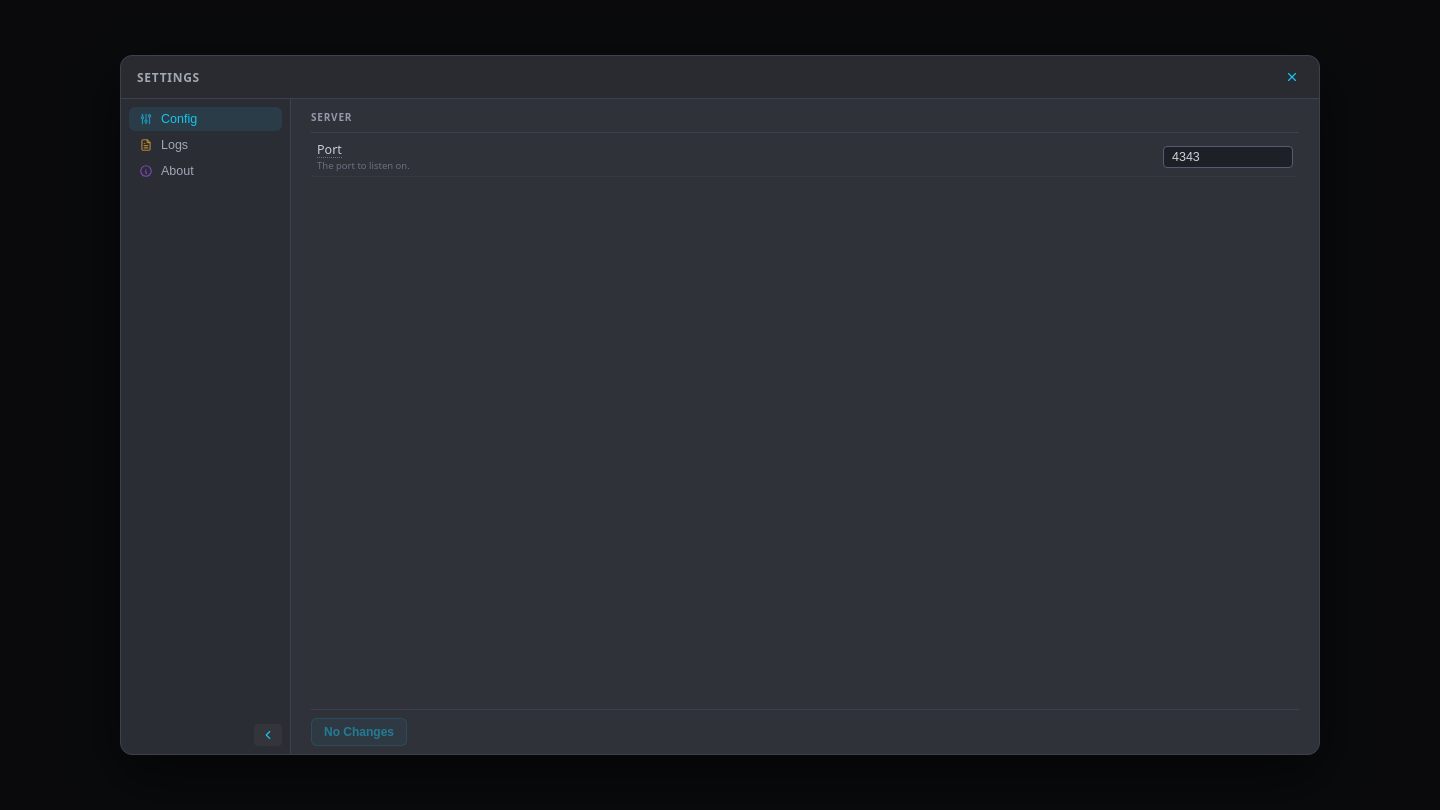
Test case: ConfigTab › keeps a pending Config edit after switching tabs and back
Expected: the text "Port" is shown, [317,142,342,158]
Step 1. Replace the text in the number field with "9000" → [1228, 157], box [1163,146,1293,168]
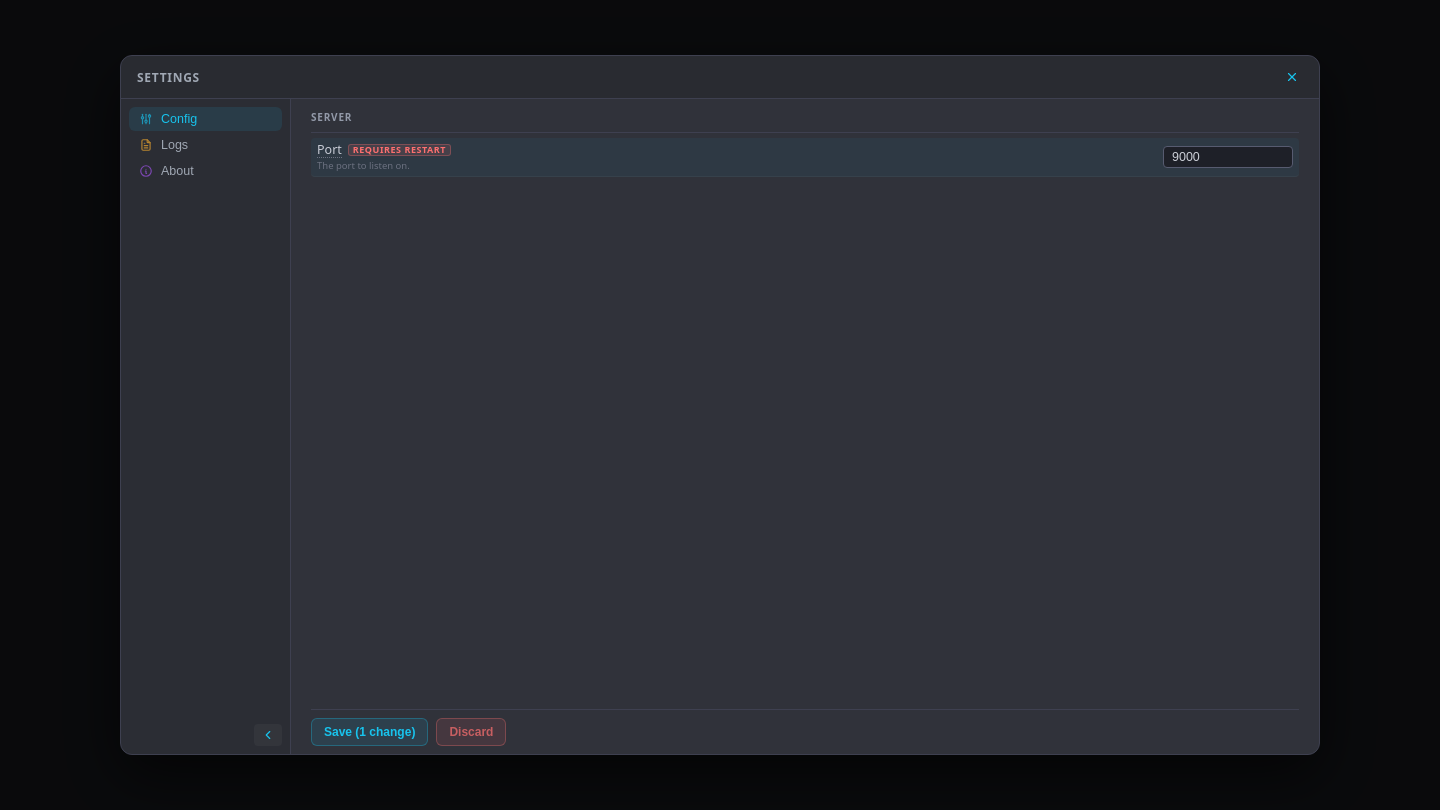
Result: the button "Save (1 change)" is enabled at [311,718,428,746]
Step 2. Click the button "About" → [206, 171], box [129,159,282,183]
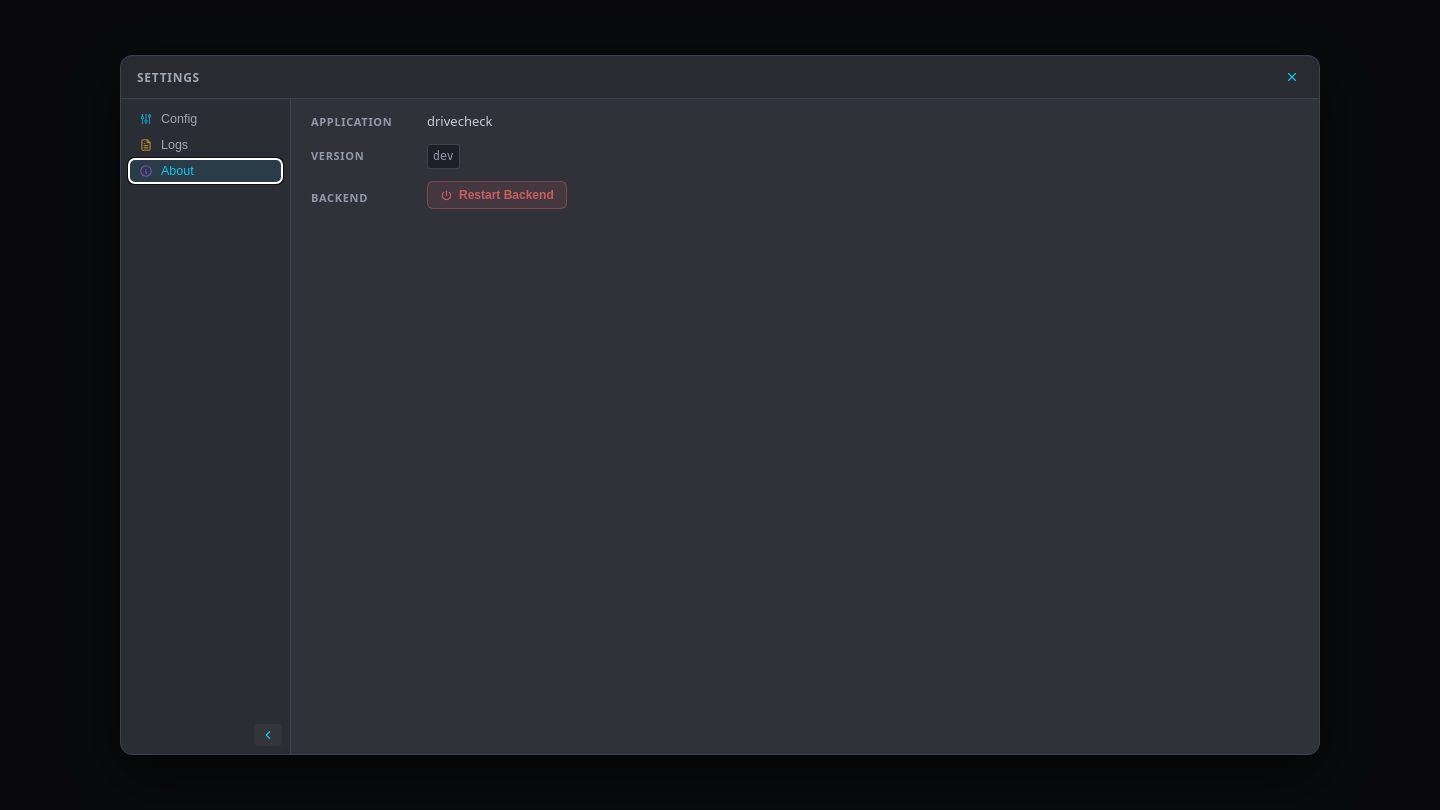
Step 3. Click the button "Config" → [206, 119], box [129,107,282,131]
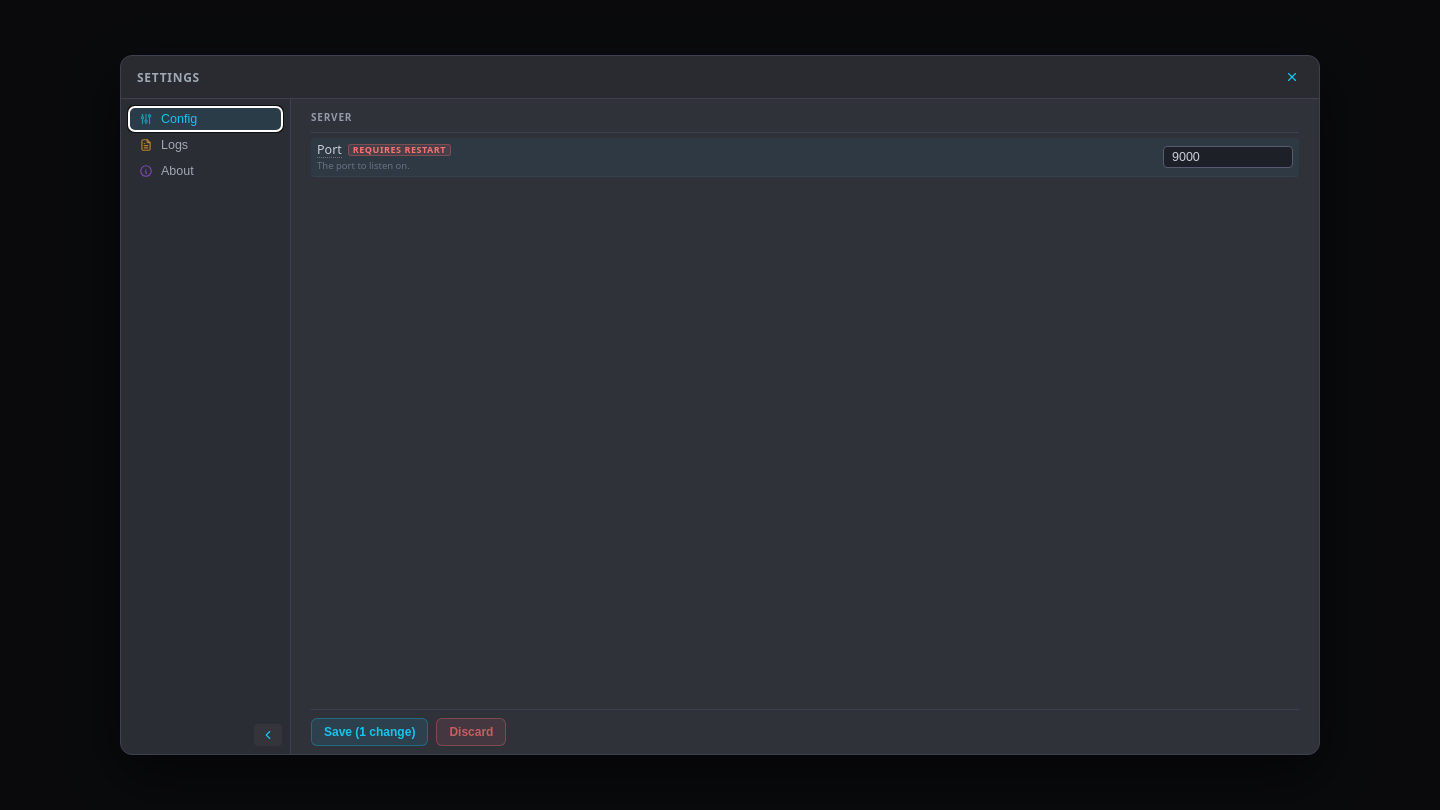
Result: the button "Save (1 change)" is enabled at [311,718,428,746]
